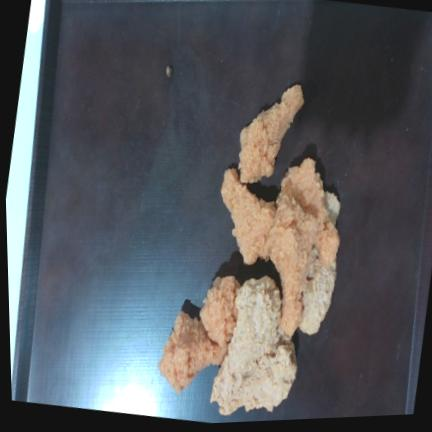chicken: (210, 276, 281, 401), (266, 197, 316, 336), (239, 85, 304, 182), (158, 311, 228, 393), (221, 169, 276, 264)
